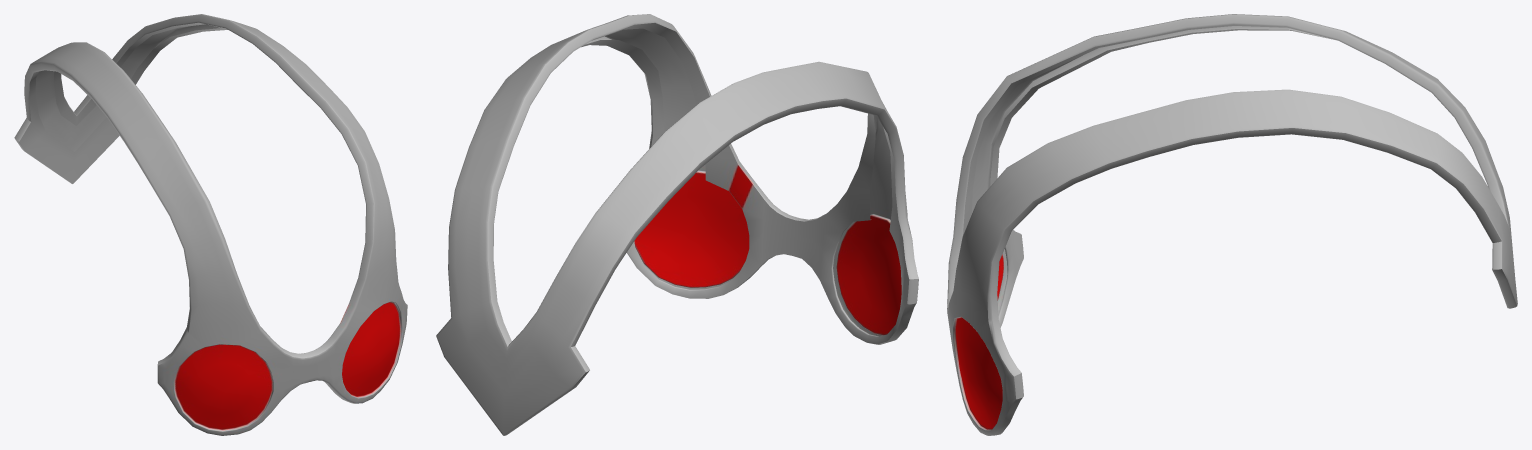
The model's file is Speedy.glb.
The picture shows the model from 3 angles, left to right: view 1: azimuth 30°, elevation 25°; view 2: azimuth 150°, elevation 25°; view 3: azimuth 270°, elevation 25°; orthographic projection. The views are drawn at different scales.
Visible parts, largest first — view 1: Speedy; view 2: Speedy; view 3: Speedy.
Boxes of the visible parts, x1=… form: Speedy: x1=14, y1=14, x2=407, y2=435; Speedy: x1=436, y1=14, x2=918, y2=435; Speedy: x1=947, y1=14, x2=1517, y2=435.
Size of the model in its own units: 0.605 by 0.6652 by 1.02.
1 material, 1 textured.
